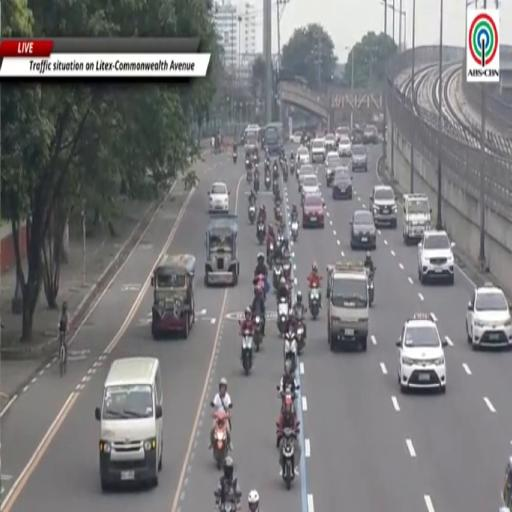car: (95, 358, 163, 491), (397, 314, 447, 392), (466, 283, 511, 349), (418, 231, 455, 284), (370, 185, 396, 228), (350, 210, 376, 250), (303, 195, 324, 228), (333, 166, 353, 199), (209, 182, 229, 213), (325, 151, 342, 186), (351, 144, 367, 171), (297, 165, 314, 190), (301, 174, 320, 196), (311, 138, 326, 163), (362, 125, 378, 144), (296, 146, 310, 165), (338, 136, 351, 156), (336, 125, 350, 142), (351, 127, 362, 146), (325, 134, 336, 151), (291, 132, 303, 143)
jeepney: (152, 254, 196, 339), (327, 263, 369, 350), (205, 214, 239, 286), (403, 194, 431, 245), (499, 457, 512, 512), (244, 125, 260, 162)
motorcycle: (281, 428, 296, 489), (213, 411, 228, 469), (277, 384, 300, 413), (283, 332, 297, 374), (242, 331, 253, 375), (308, 284, 320, 320), (278, 297, 288, 334), (296, 316, 305, 355), (254, 275, 268, 300), (254, 314, 263, 351), (366, 268, 374, 307), (254, 275, 266, 296), (273, 265, 282, 289), (257, 221, 266, 245), (218, 502, 238, 511), (267, 243, 274, 266), (283, 261, 291, 281), (291, 220, 298, 242), (248, 204, 255, 225), (274, 206, 282, 223), (273, 182, 280, 201), (276, 234, 284, 248), (254, 175, 259, 193), (246, 169, 252, 183), (283, 166, 288, 182), (265, 174, 270, 190), (290, 161, 295, 175), (273, 169, 278, 183), (245, 158, 251, 169), (301, 191, 305, 206), (233, 152, 237, 164)
